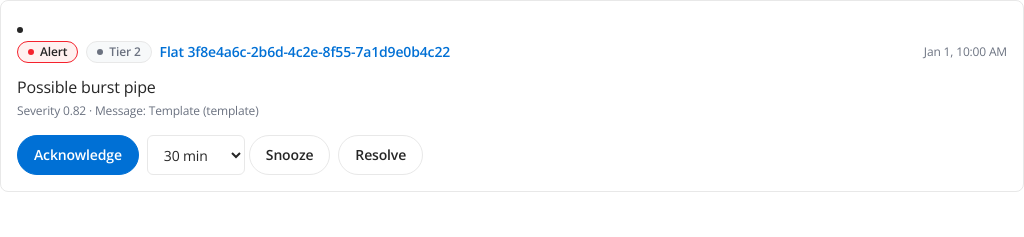
Test: alert row actions › surfaces backend errors from an action
The width and height of the screenshot is (1024, 237).
Click the button "Acknowledge".
click(78, 155)  # box [17, 135, 139, 175]
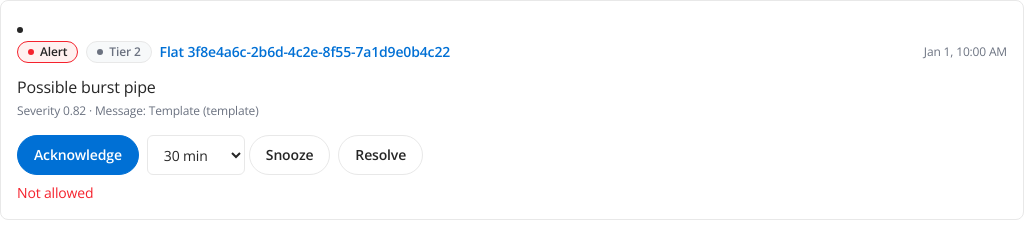
Result: the message reads "Not allowed" at [17, 183, 93, 202]
